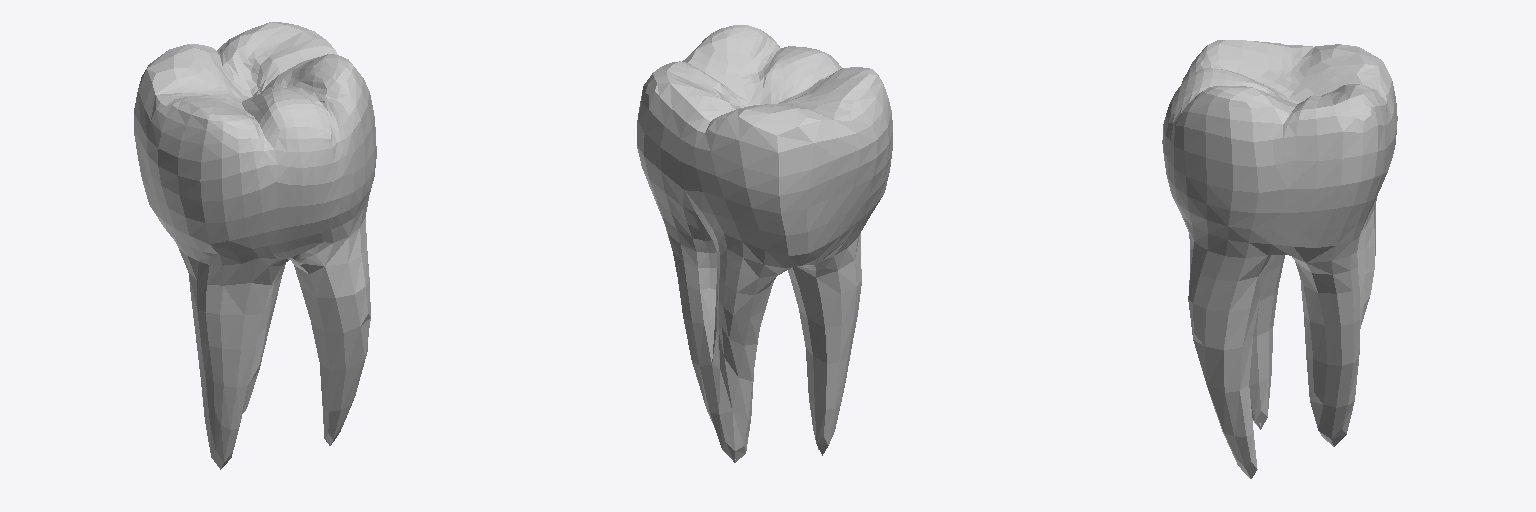
The model's file is 36endomodel.obj.
3 renders of one model, left to right at view 1: azimuth 30°, elevation 25°; view 2: azimuth 150°, elevation 25°; view 3: azimuth 270°, elevation 25°, orthographic.
Visible parts, largest first — view 1: Object020; view 2: Object020; view 3: Object020.
Part boxes in pixels (bbox=[...]): Object020: bbox=[134, 22, 376, 469]; Object020: bbox=[637, 25, 892, 462]; Object020: bbox=[1162, 40, 1397, 478].
Size of the model in its own units: 65.05 by 118 by 63.97.